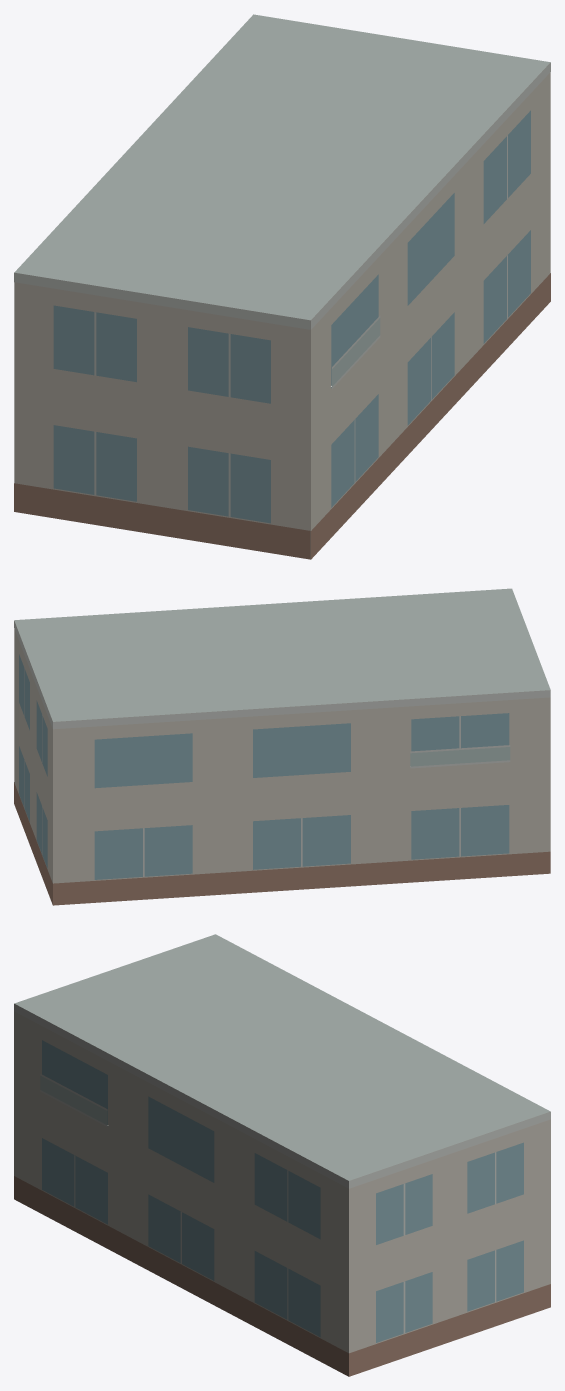
Rendered from survey-upis-32738457.glb.
3 views of the same model, one above another, from view 1: azimuth 30°, elevation 25°; view 2: azimuth 150°, elevation 25°; view 3: azimuth 270°, elevation 25° (orthographic). The views are drawn at different scales.
Parts seen in each view (by area): view 1: survey-upis-32738457.tmp; view 2: survey-upis-32738457.tmp; view 3: survey-upis-32738457.tmp.
Boxes of the visible parts, x1,y1,x2,y2 form: survey-upis-32738457.tmp: (14, 14, 550, 559); survey-upis-32738457.tmp: (14, 588, 550, 905); survey-upis-32738457.tmp: (14, 934, 550, 1376).
Size of the model in its own units: 16.5 by 6.1 by 15.17.
